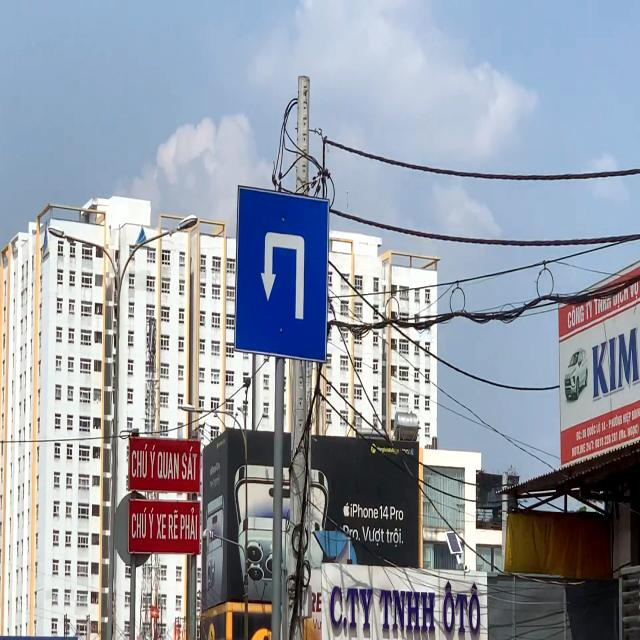R.409: (236, 182, 328, 366)
